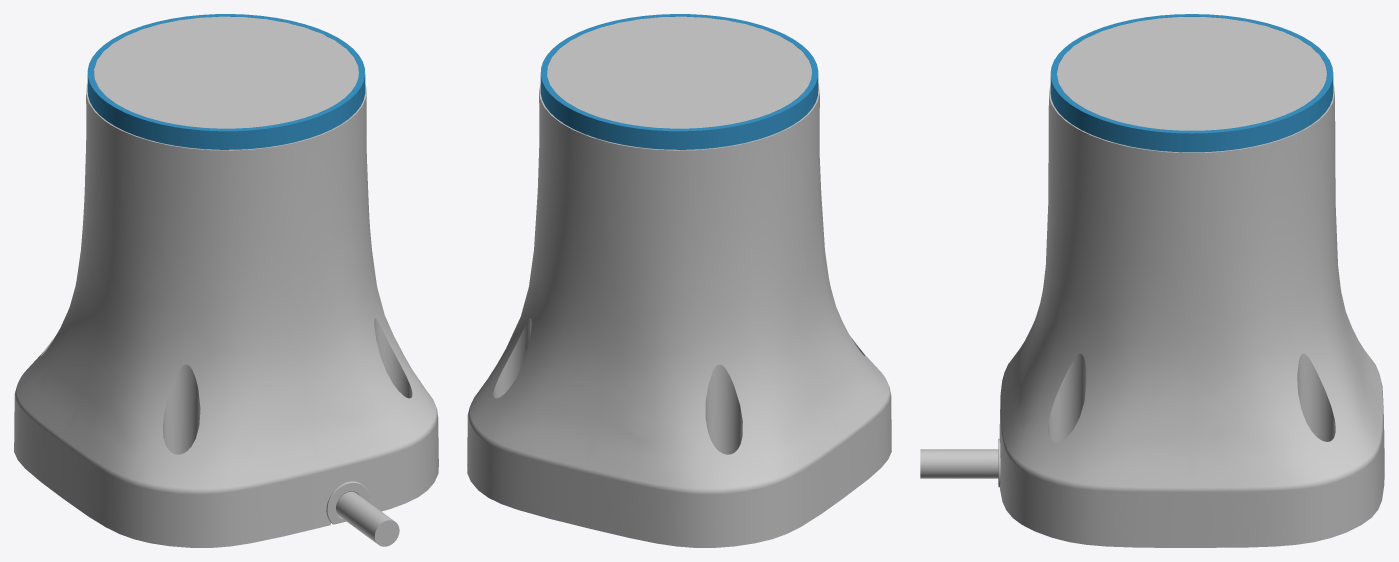
Rendered from NOVA2_BASE_ASM.gltf.
3 views of the same model, side by side, from view 1: azimuth 30°, elevation 25°; view 2: azimuth 150°, elevation 25°; view 3: azimuth 270°, elevation 25° (orthographic).
Visible parts, largest first — view 1: BASE-PART1, BASE-PART3, BASE-PART4, BASE-PART2; view 2: BASE-PART1, BASE-PART3; view 3: BASE-PART1, BASE-PART3, BASE-PART4.
Part boxes in pixels (x1,y1,x2,y2): BASE-PART1: (14, 16, 438, 547); BASE-PART3: (87, 14, 365, 149); BASE-PART4: (336, 492, 399, 546); BASE-PART2: (326, 481, 369, 524); BASE-PART1: (467, 16, 891, 547); BASE-PART3: (540, 14, 818, 149); BASE-PART1: (999, 17, 1384, 547); BASE-PART3: (1050, 14, 1333, 152); BASE-PART4: (920, 449, 998, 478).
Size of the model in its own units: 0.12 by 0.1348 by 0.1445.
